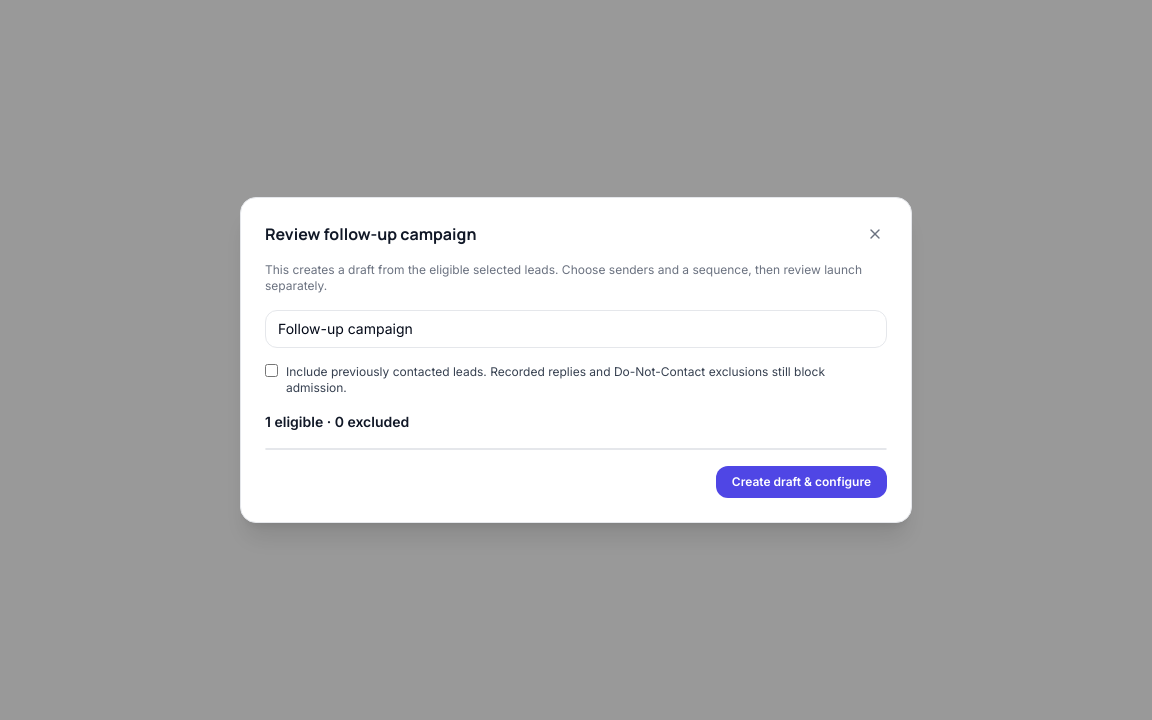
Test: Canonical lead tags and reviewed draft controls › clears a rejected follow-up preview and requires another review
Click the button "Create draft & configure": (801, 482) [716,466,887,498]
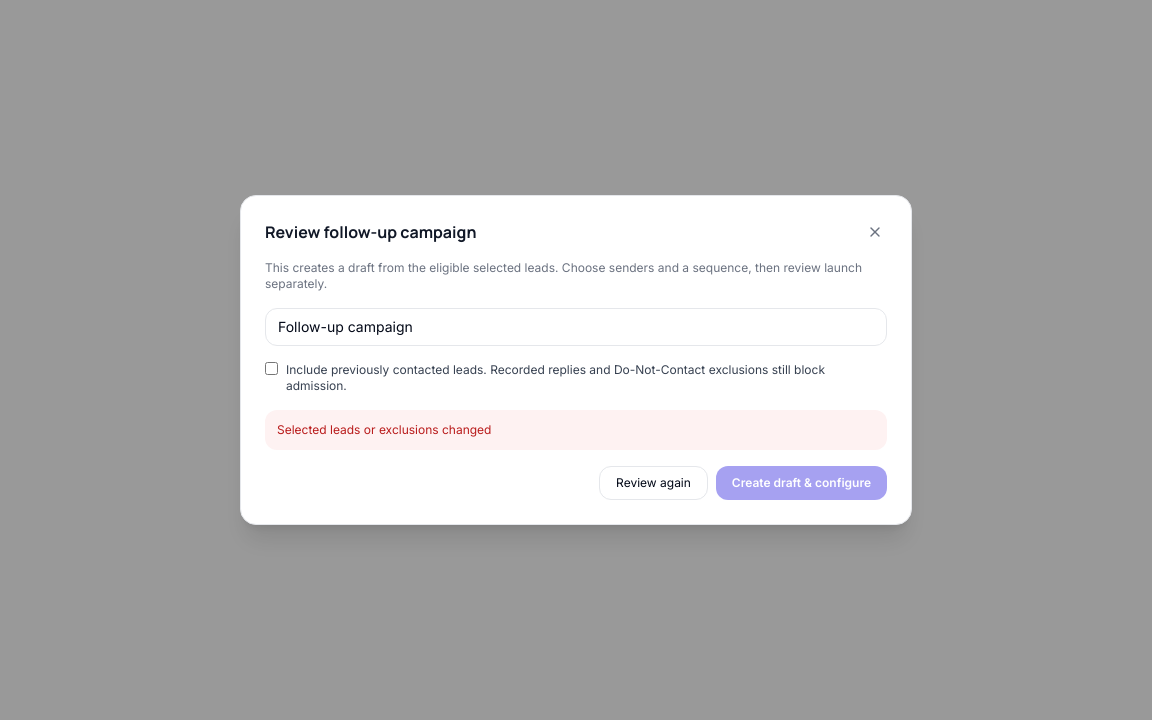
Check: the text "Selected leads or exclusions changed" is shown, box [265,410,887,450]
Check: the button "Create draft & configure" is disabled, box [716,466,887,500]
Click the button "Review again": (654, 483) [599,466,708,500]
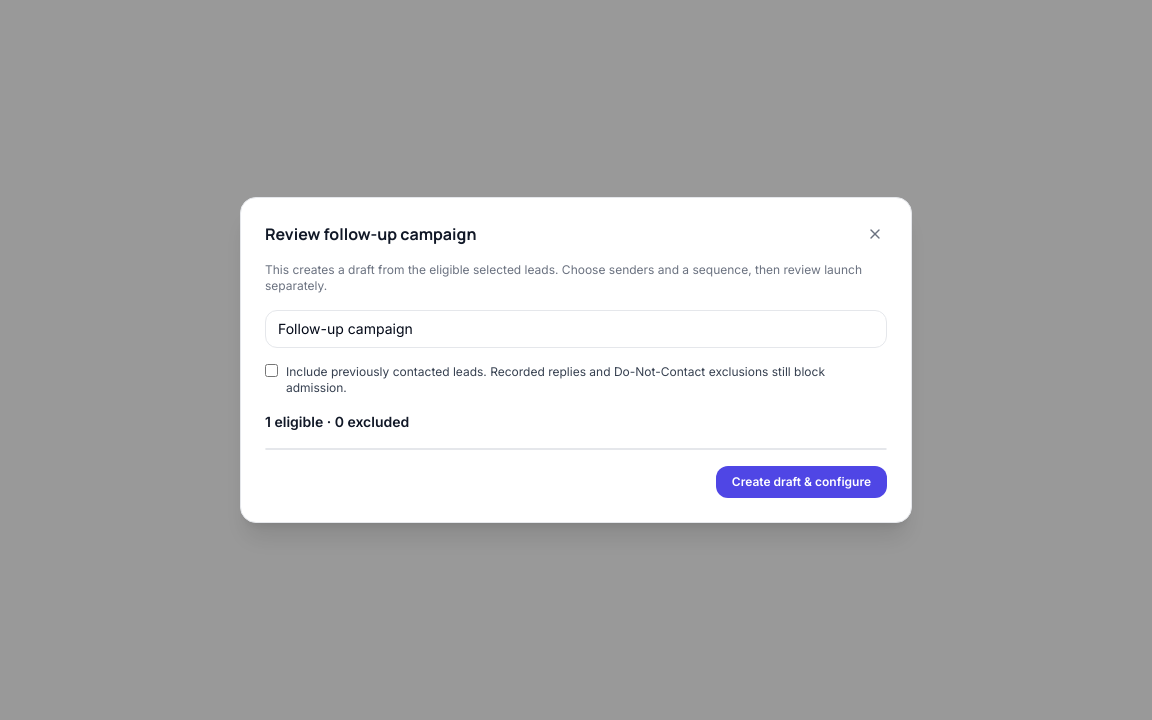
Check: the button "Create draft & configure" is enabled, box [716,466,887,498]
